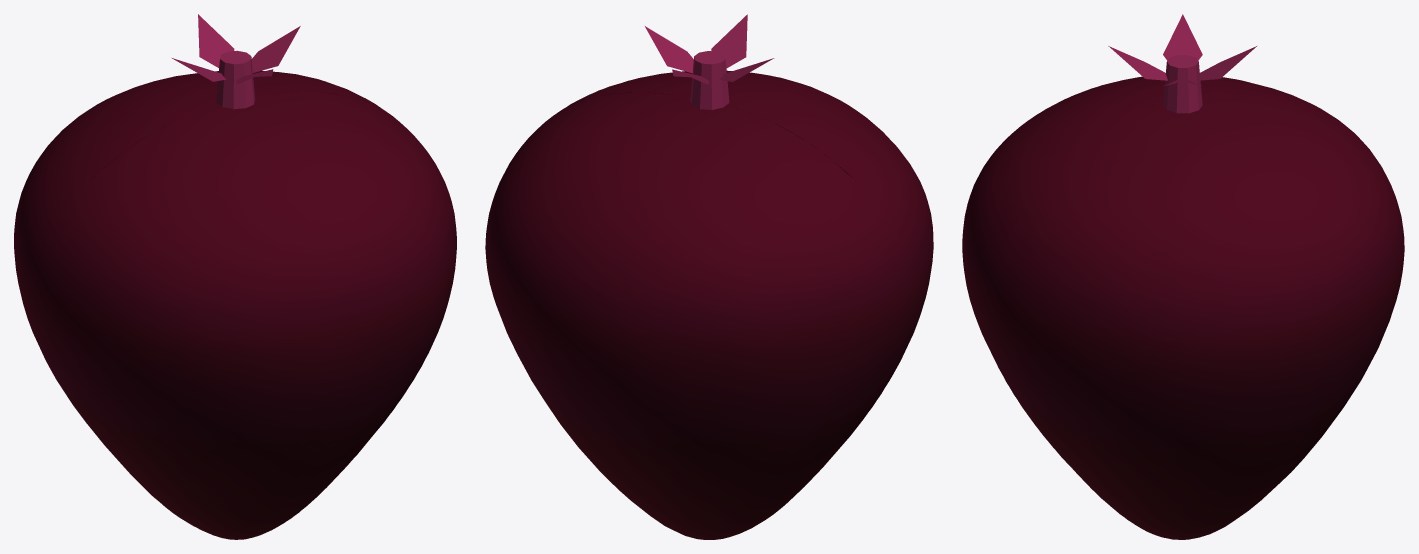
The model's file is betterave.glb.
3 renders of one model, left to right at view 1: azimuth 30°, elevation 25°; view 2: azimuth 150°, elevation 25°; view 3: azimuth 270°, elevation 25°, orthographic.
Visible parts, largest first — view 1: entier_peau, moitie_B_peau, moitie_A_peau, entier_extra0; view 2: entier_peau, moitie_A_peau, moitie_B_peau, entier_extra0; view 3: entier_peau, moitie_B_peau, moitie_A_peau, entier_extra0.
Boxes of the visible parts, x1,y1,x2,y2 form: entier_peau: [14, 70, 456, 539]; moitie_B_peau: [43, 92, 456, 539]; moitie_A_peau: [14, 71, 328, 499]; entier_extra0: [172, 14, 300, 109]; entier_peau: [485, 70, 933, 539]; moitie_A_peau: [485, 92, 901, 539]; moitie_B_peau: [568, 71, 933, 505]; entier_extra0: [645, 14, 774, 109]; entier_peau: [962, 77, 1404, 539]; moitie_B_peau: [963, 76, 1182, 539]; moitie_A_peau: [1183, 79, 1401, 539]; entier_extra0: [1108, 14, 1256, 113].
Bounding box in the file's own units: 1.78 × 2.16 × 1.77.
